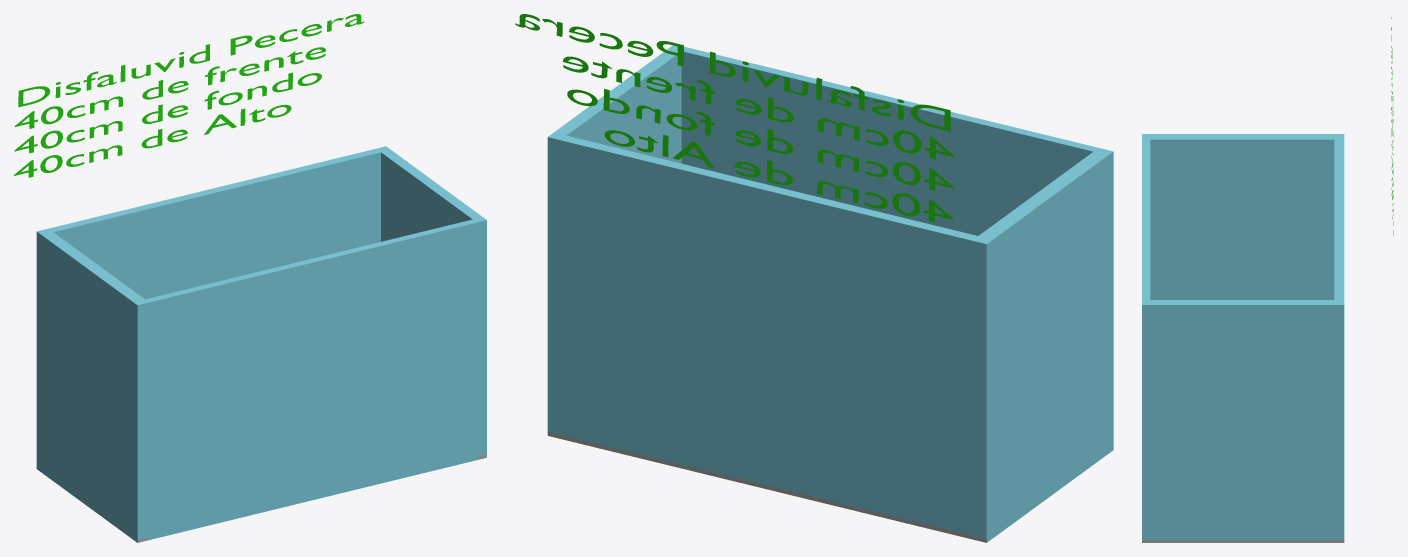
Rendered from pecerallistaverdecita5.glb.
3 views of the same model, side by side, from view 1: azimuth 30°, elevation 25°; view 2: azimuth 150°, elevation 25°; view 3: azimuth 270°, elevation 25° (orthographic). The views are drawn at different scales.
Parts seen in each view (by area): view 1: Cube, Text.001; view 2: Cube, Text.001; view 3: Cube.
Boxes of the visible parts, x1,y1,x2,y2 form: Cube: (36, 146, 486, 542); Text.001: (14, 14, 364, 177); Cube: (547, 45, 1113, 542); Text.001: (515, 14, 954, 222); Cube: (1142, 134, 1344, 542).
Bounding box in the file's own units: 0.4022 × 0.3941 × 0.2491.
